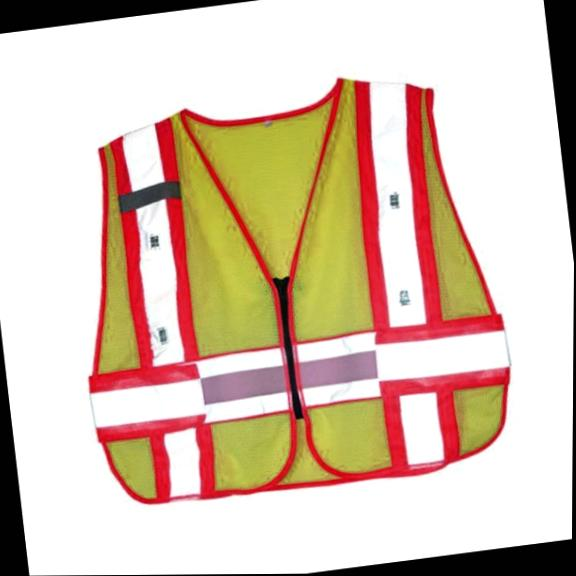safety_vest: (53, 56, 538, 517)
